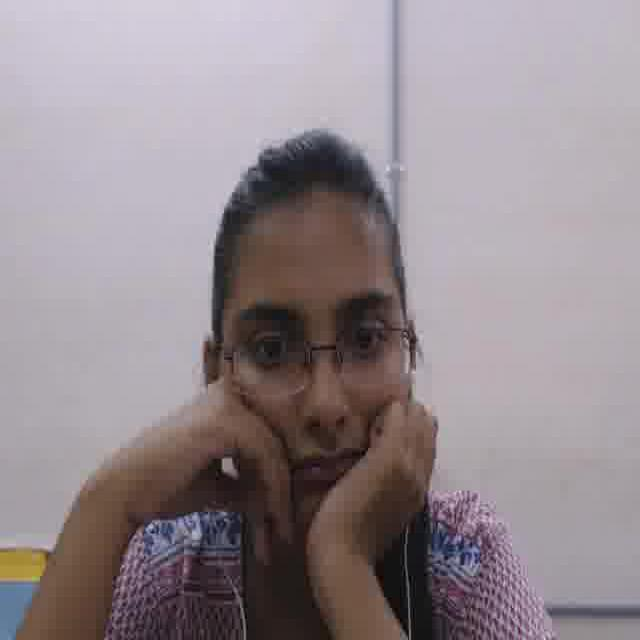Boredom: (223, 211, 400, 520)
